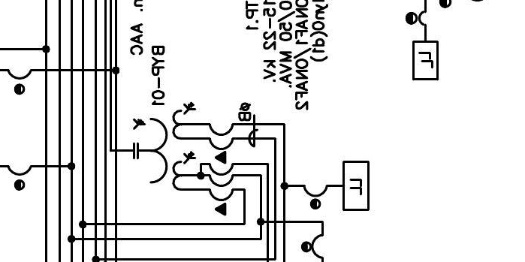115_cvt_3p: (133, 101, 197, 191)
LL: (342, 161, 370, 211), (412, 40, 439, 81)
